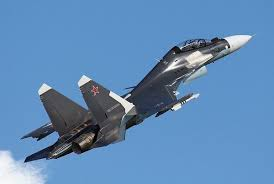maybay_muctieu: (38, 25, 252, 168)
